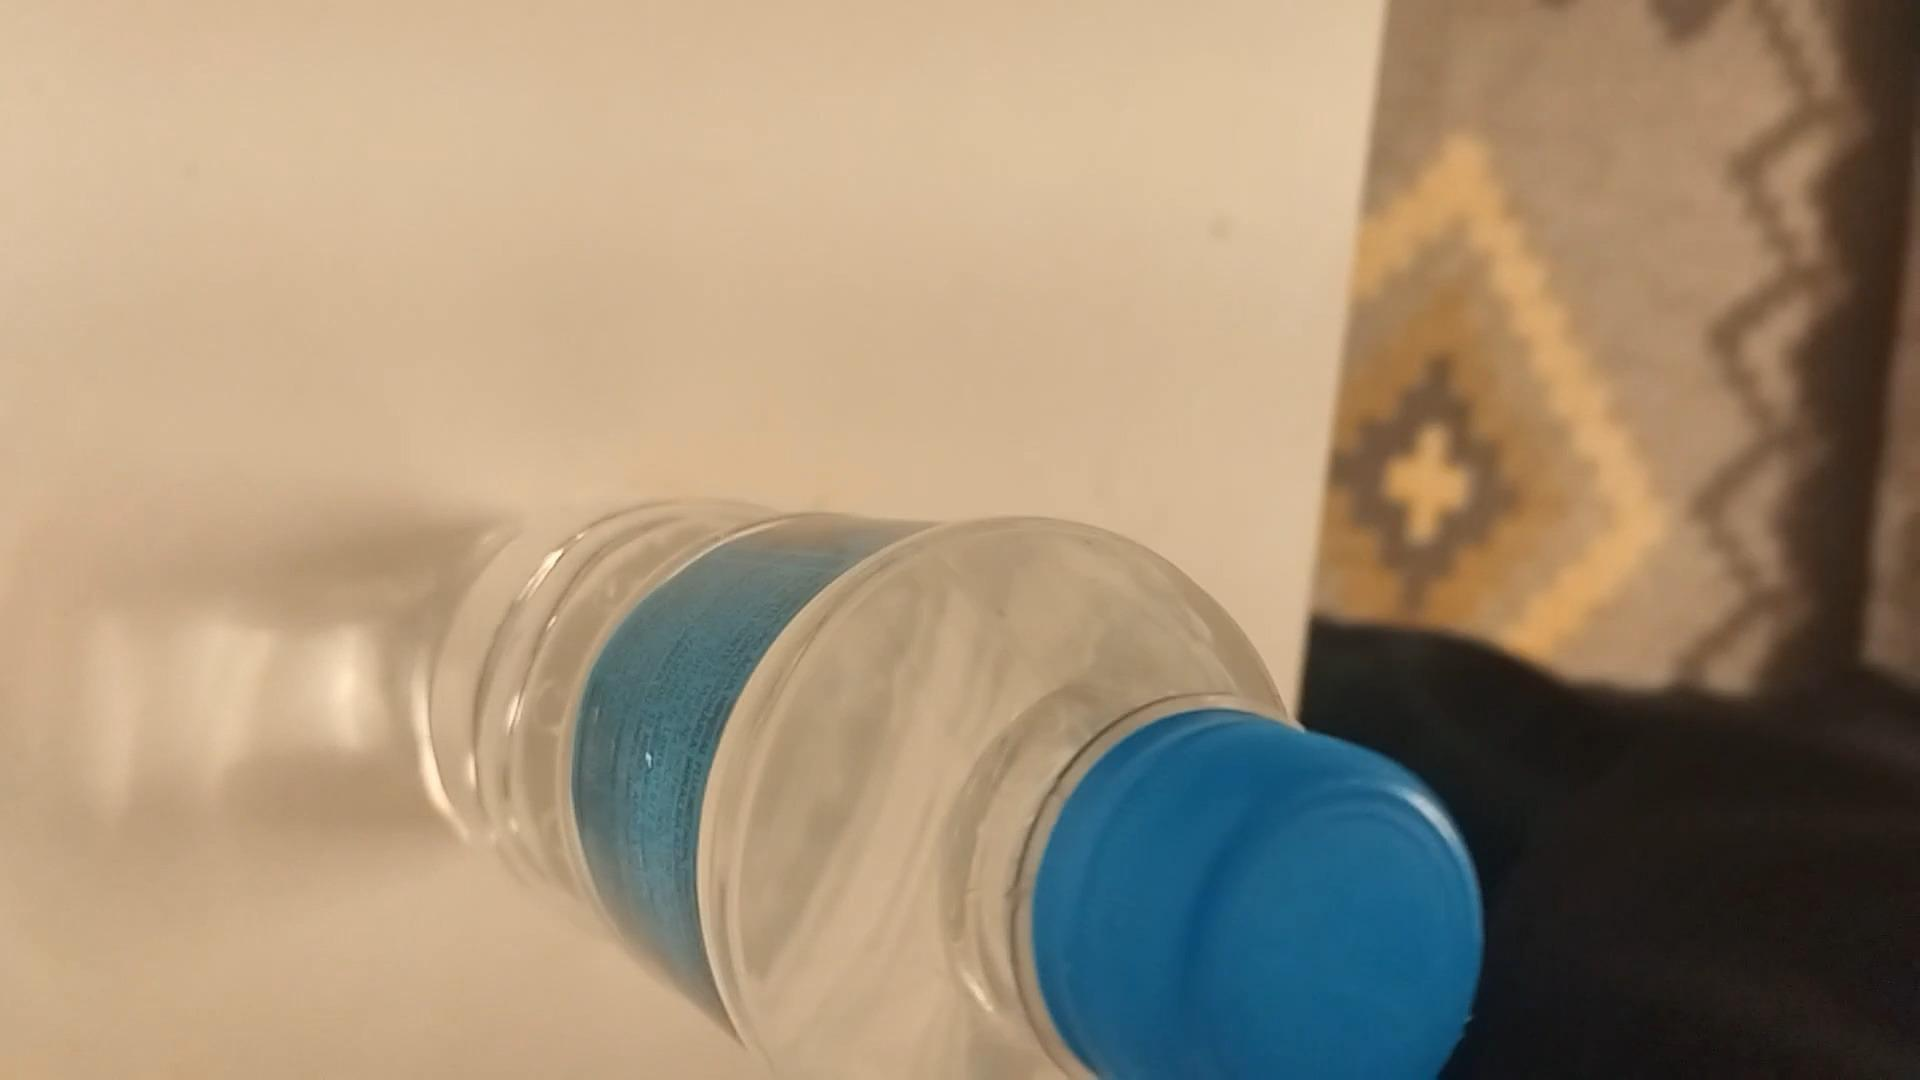agua: (429, 498, 1449, 1080)
